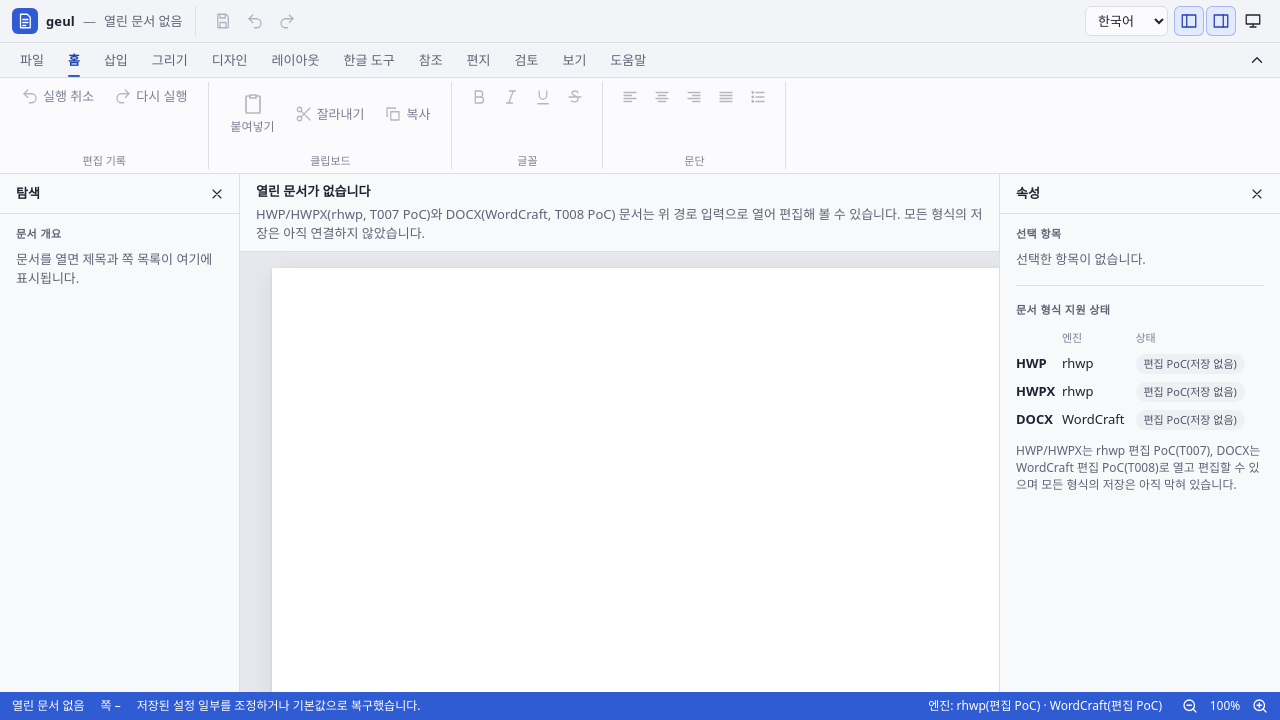
it: 설정 복원 문제 알림 › 복원 알림은 언어를 바꾸면 다시 번역된다
Check: the message reads "저장된 설정 일부를 조정하거나 기본값으로 복구했습니다.", box [137,697,420,714]
Select "English" in the dropdown named "화면 언어": (1126, 21) [1085,6,1168,36]
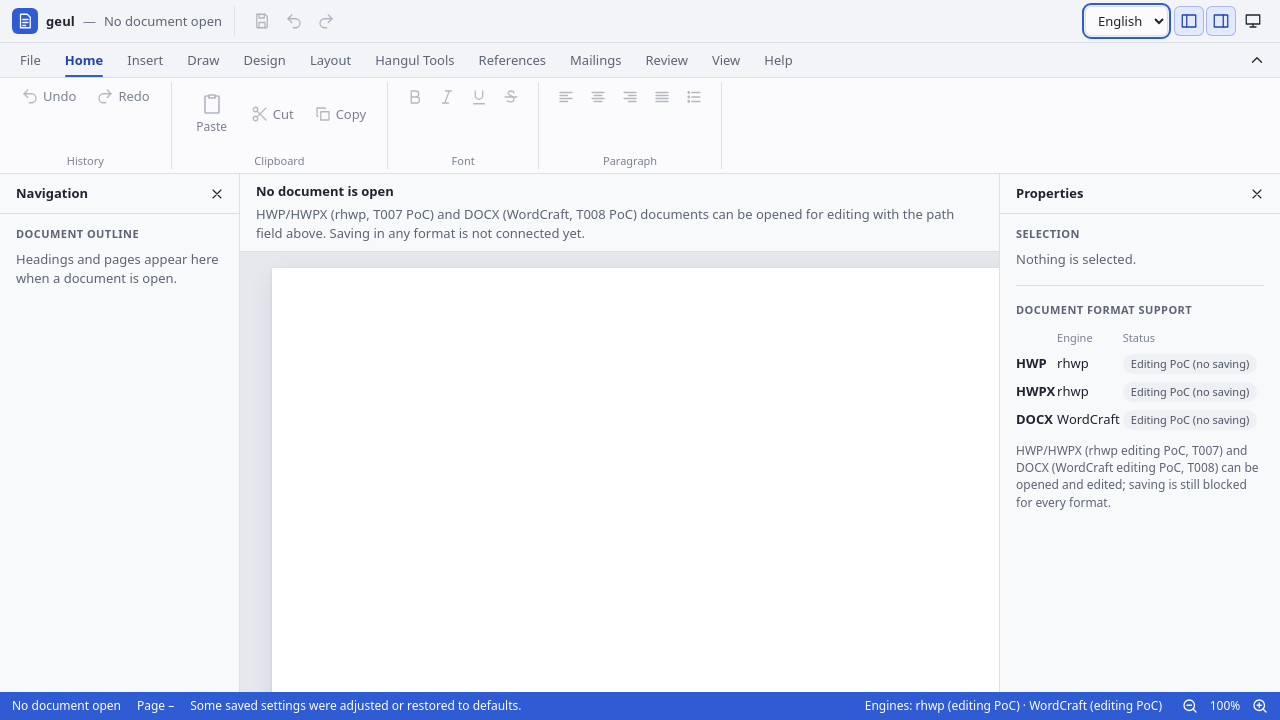
Check: the message reads "Some saved settings were adjusted or restored to defaults.", box [190,697,522,714]
